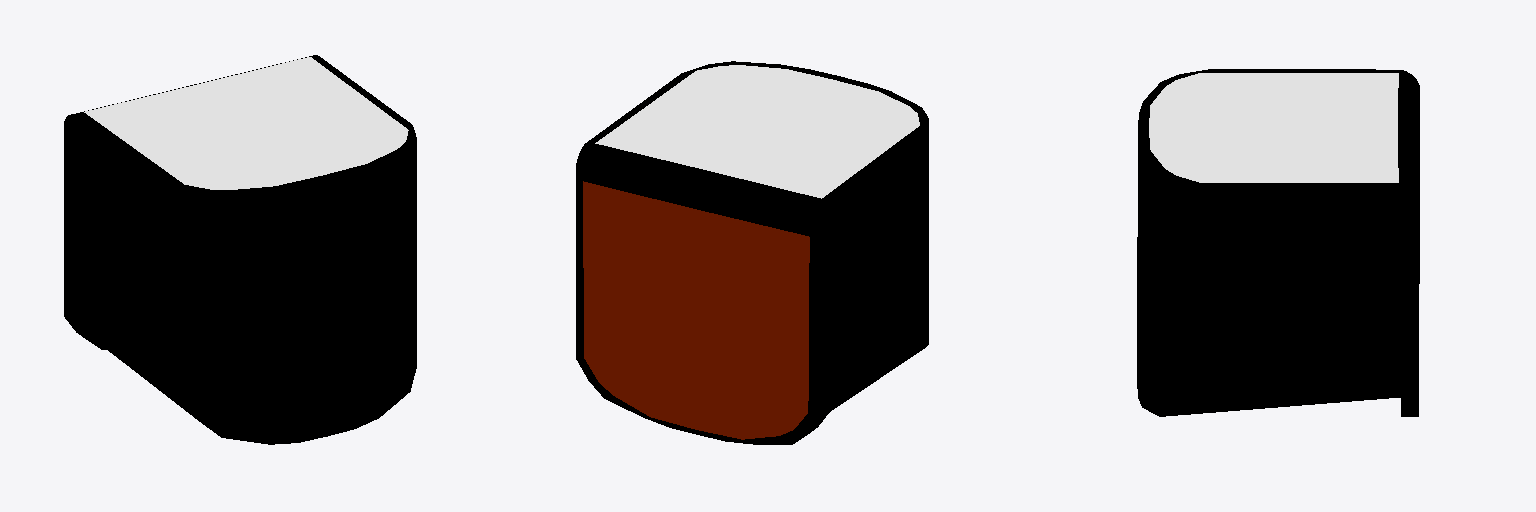
File: edgeWO.obj
3 renders of one model, left to right at view 1: azimuth 30°, elevation 25°; view 2: azimuth 150°, elevation 25°; view 3: azimuth 270°, elevation 25°, orthographic.
Parts seen in each view (by area): view 1: BasicEdge_Plane.006, EdgeSide1_Plane.008; view 2: EdgeSide2_Plane.009, BasicEdge_Plane.006, EdgeSide1_Plane.008; view 3: BasicEdge_Plane.006, EdgeSide1_Plane.008.
Part boxes in pixels (bbox=[...]): BasicEdge_Plane.006: bbox=[64, 55, 416, 444]; EdgeSide1_Plane.008: bbox=[84, 57, 408, 189]; EdgeSide2_Plane.009: bbox=[583, 181, 809, 439]; BasicEdge_Plane.006: bbox=[576, 61, 928, 444]; EdgeSide1_Plane.008: bbox=[595, 65, 919, 198]; BasicEdge_Plane.006: bbox=[1137, 69, 1419, 416]; EdgeSide1_Plane.008: bbox=[1149, 73, 1398, 182].
Bounding box in the file's own units: 0.18 × 0.1802 × 0.182.